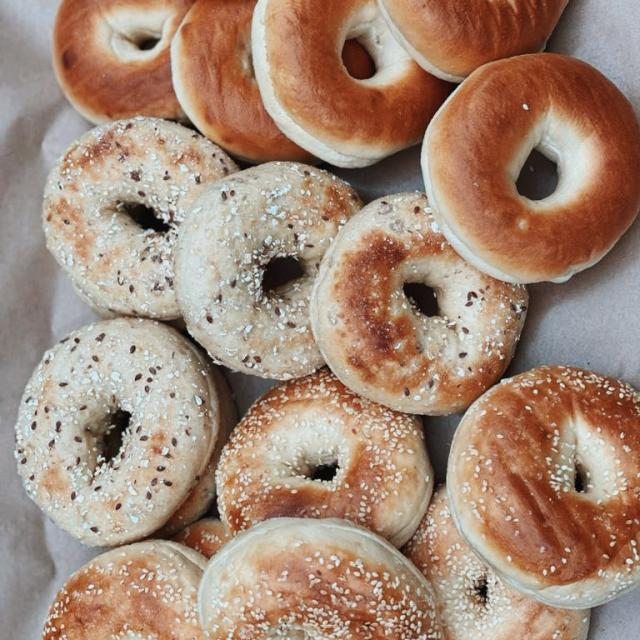Bagel: (421, 54, 640, 283), (311, 194, 528, 414), (15, 318, 219, 546), (448, 366, 640, 591), (174, 161, 361, 379), (44, 116, 238, 319), (216, 369, 434, 546), (251, 0, 452, 168), (199, 518, 444, 640), (52, 0, 193, 124)
